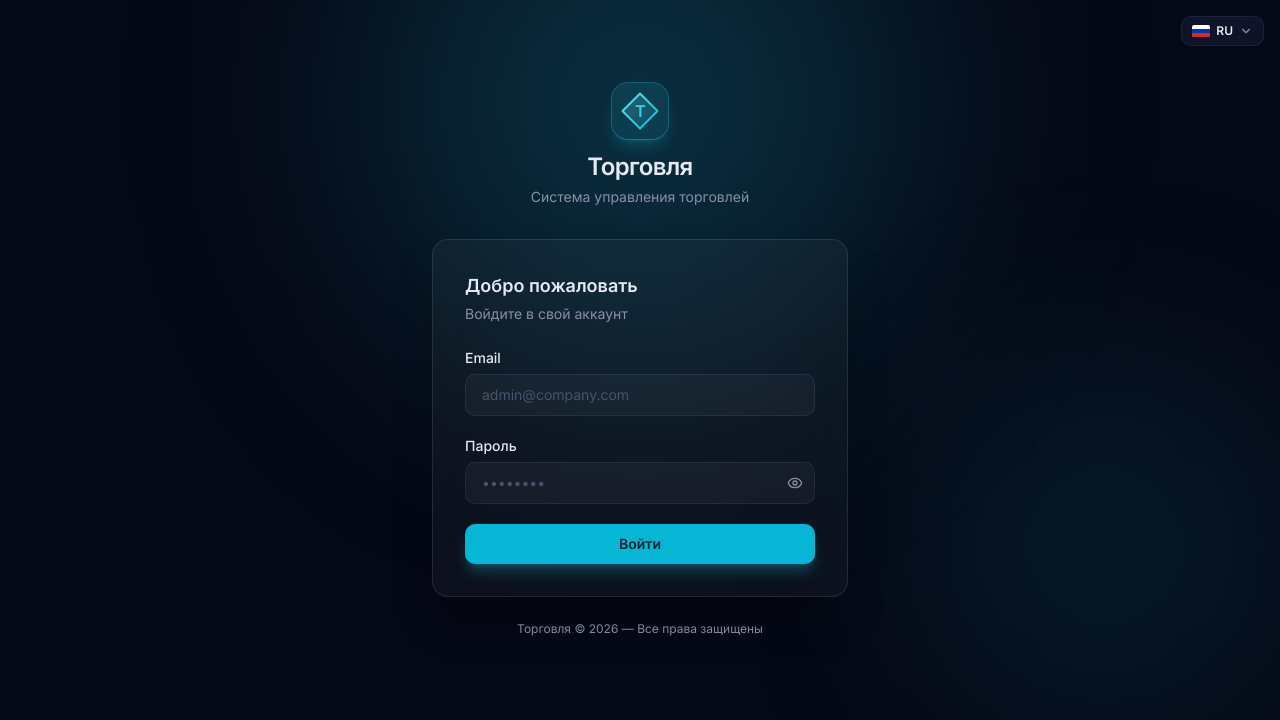
LoginPage › показывает ошибку при пустом пароле
Type "test@example.com" into the field labelled "Email" at point(640, 395), box x1=465 y1=374 x2=815 y2=416
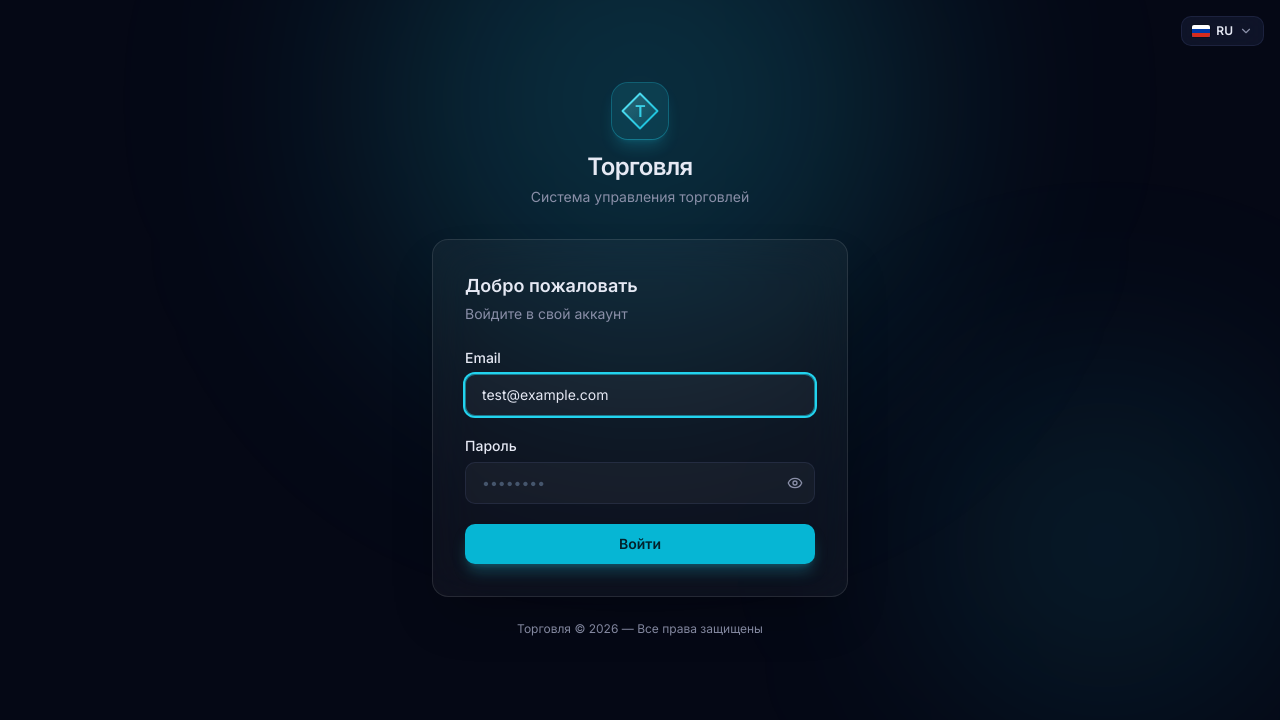
Click the button "Войти" at point(640, 544), box x1=465 y1=524 x2=815 y2=564
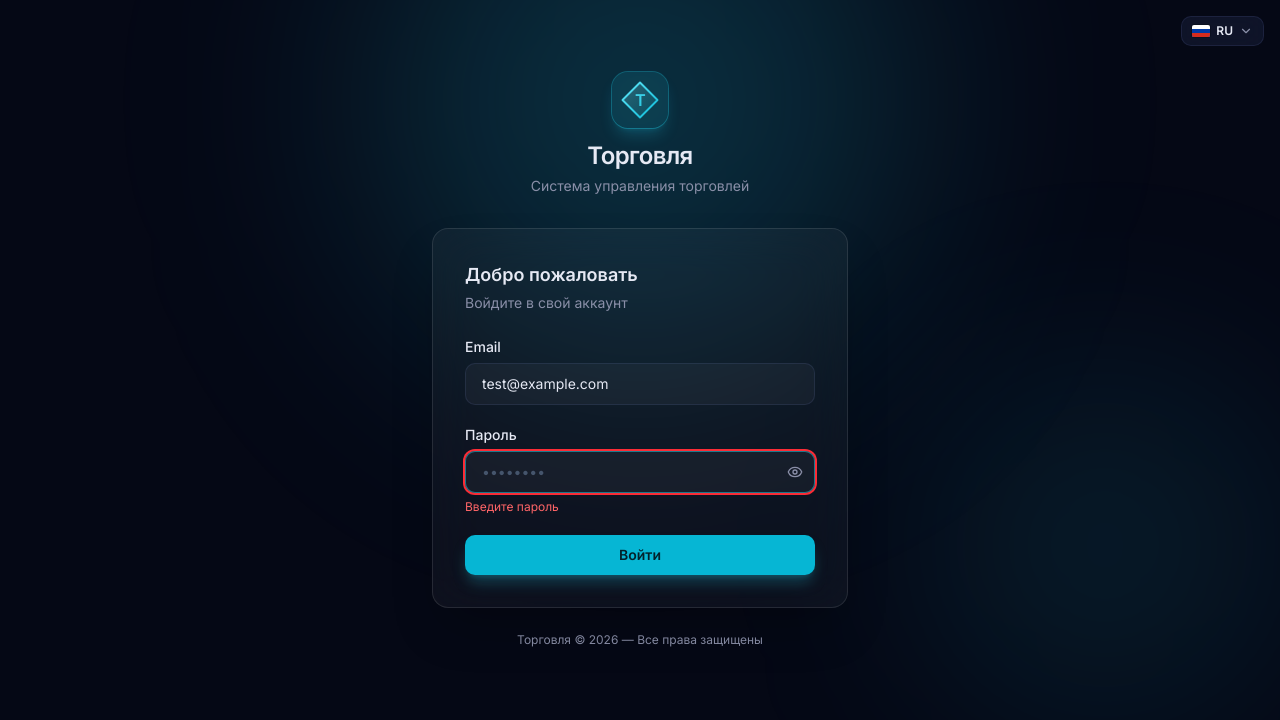
Expected: the text "Введите пароль" is shown, x1=465 y1=499 x2=559 y2=514
